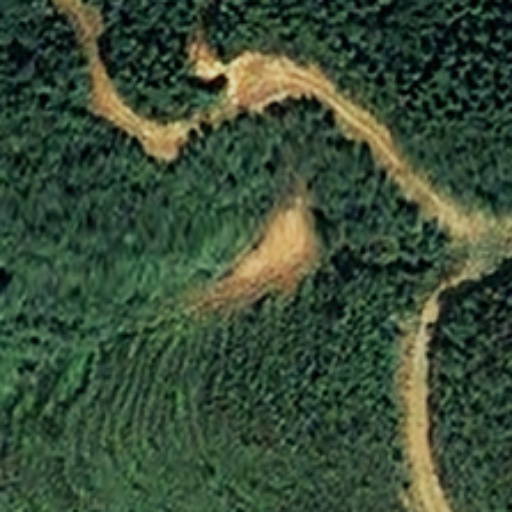landslide: (205, 192, 316, 312), (184, 37, 314, 113)
